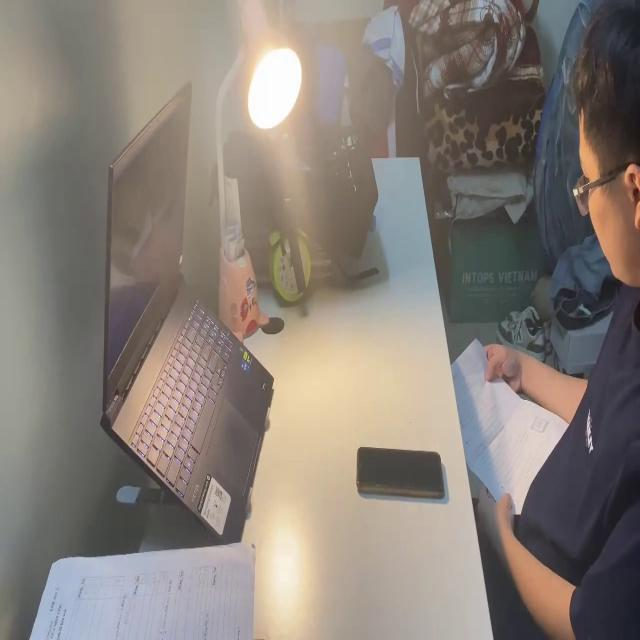book: (23, 542, 255, 640), (451, 327, 570, 513)
laptop: (92, 77, 275, 537)
phone: (356, 442, 445, 502)
student: (464, 0, 640, 640)
